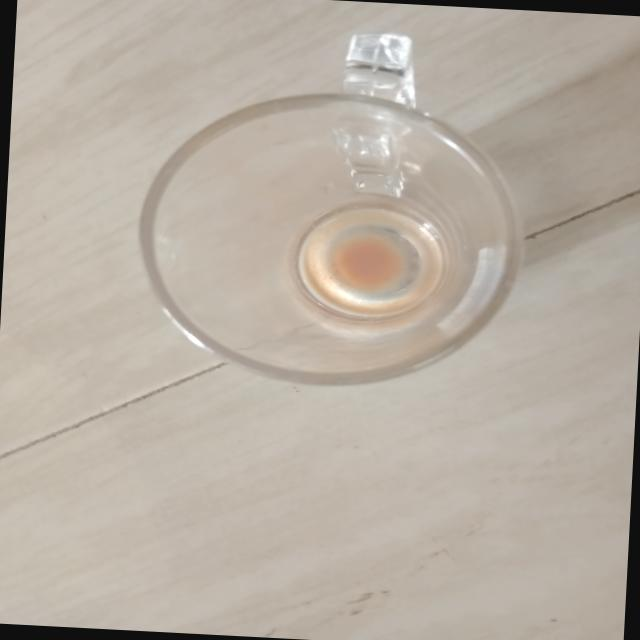glass-VX4N: (128, 22, 531, 408)
